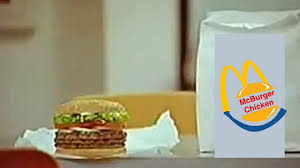hamburger: (50, 97, 131, 160)
